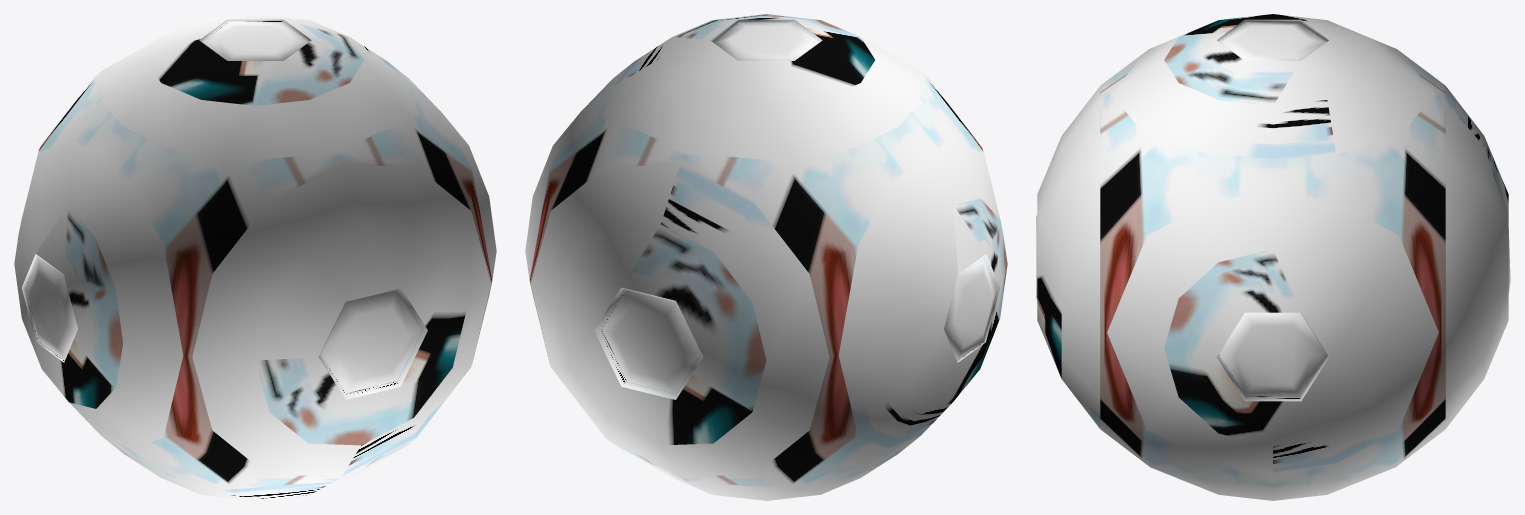
The model's file is static.ico.obj.
3 views of the same model, side by side, from view 1: azimuth 30°, elevation 25°; view 2: azimuth 150°, elevation 25°; view 3: azimuth 270°, elevation 25° (orthographic).
Size of the model in its own units: 2.36 by 2.37 by 2.34.
